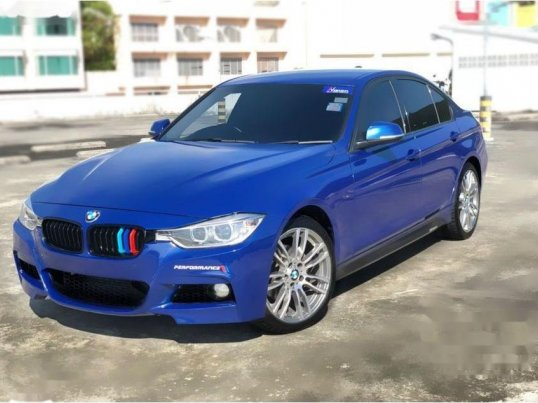sedan: (13, 64, 491, 331)
